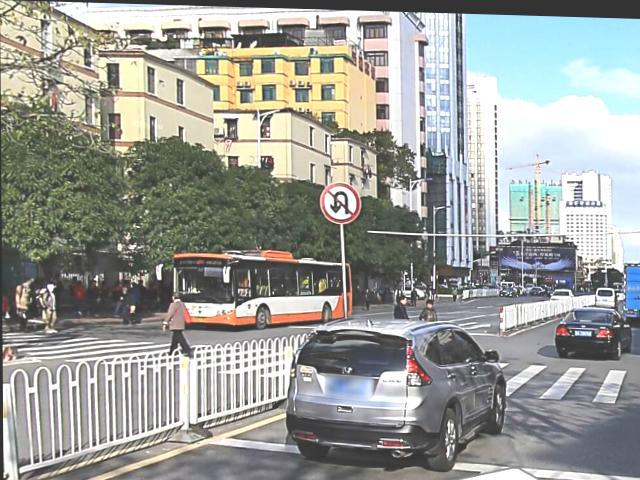not_u_turn_left: (319, 181, 362, 223)
